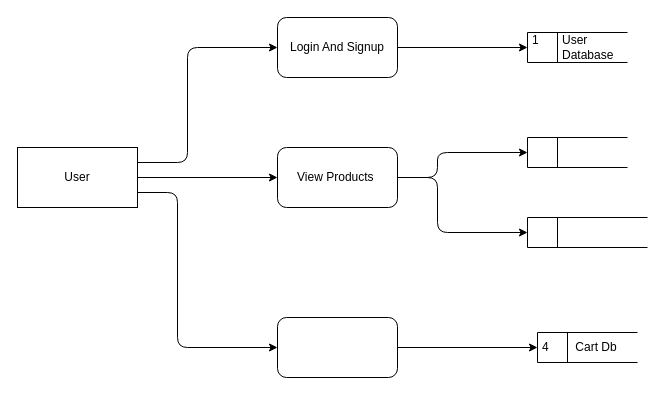
The diagram is 665 pixels wide and 395 high, and some of its shapes have lost their labels. Here are the shapes that lost their labels. From the top down, the centre of each, then its label:
At [577,152]: "2 Laptop Db".
At [587,232]: "3 PC Parts Db".
At [337,347]: "Add To Cart".
